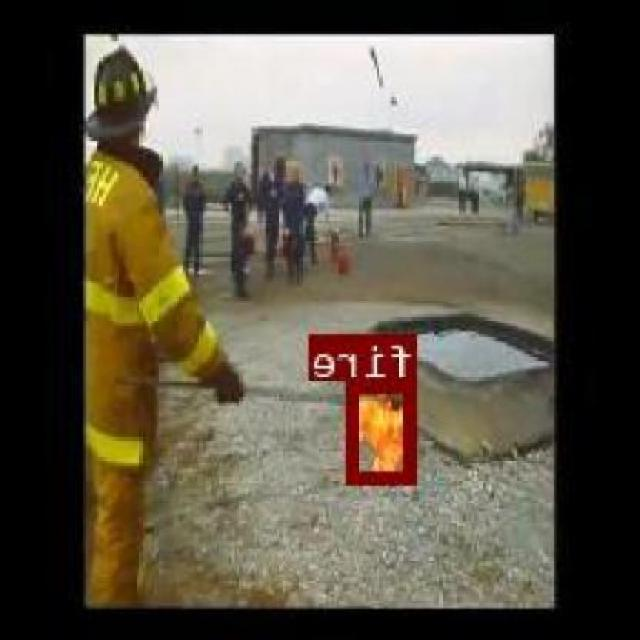Fire: (349, 378, 418, 484)
